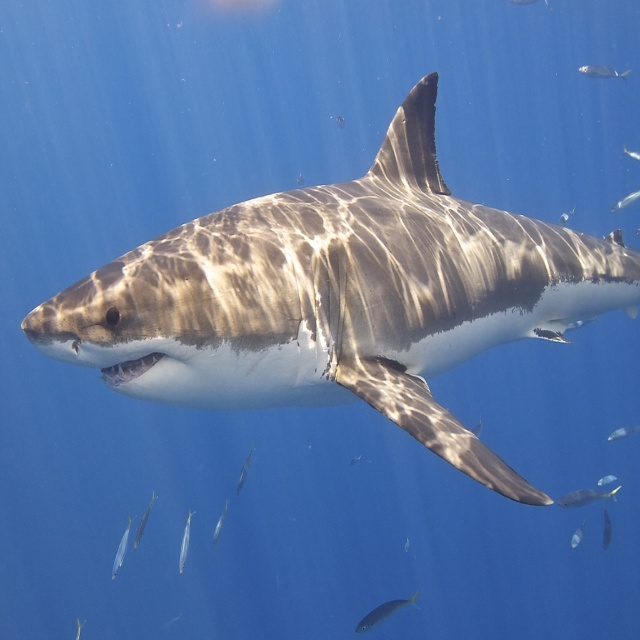Shark: (21, 73, 640, 508)
